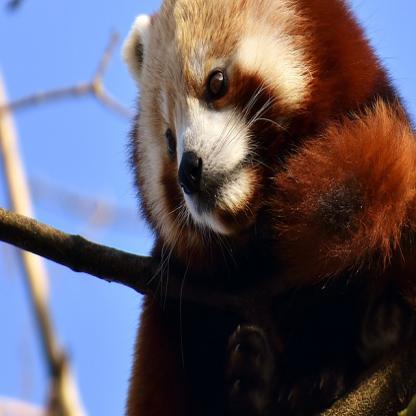dog: (121, 0, 415, 361)
